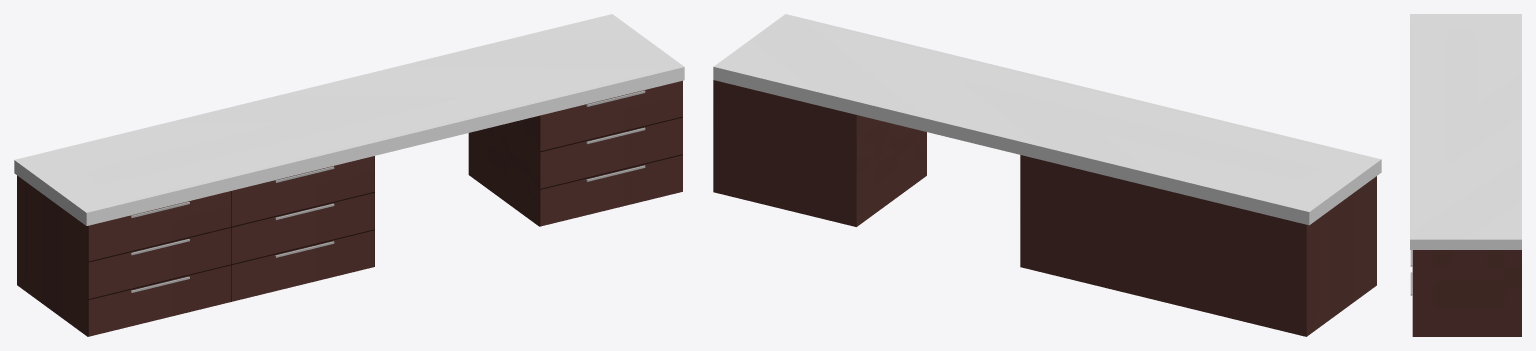
File: office_table_022.glb
3 renders of one model, left to right at view 1: azimuth 30°, elevation 25°; view 2: azimuth 150°, elevation 25°; view 3: azimuth 270°, elevation 25°, orthographic. The views are drawn at different scales.
Visible parts, largest first — view 1: office_table_022; view 2: office_table_022; view 3: office_table_022.
Part boxes in pixels (x1,y1,x2,y2): office_table_022: [14, 14, 684, 336]; office_table_022: [713, 14, 1381, 336]; office_table_022: [1410, 14, 1521, 336].
Size of the model in its own units: 3.68 by 0.7413 by 0.772.
Materials: 1 (1 with a texture image).
